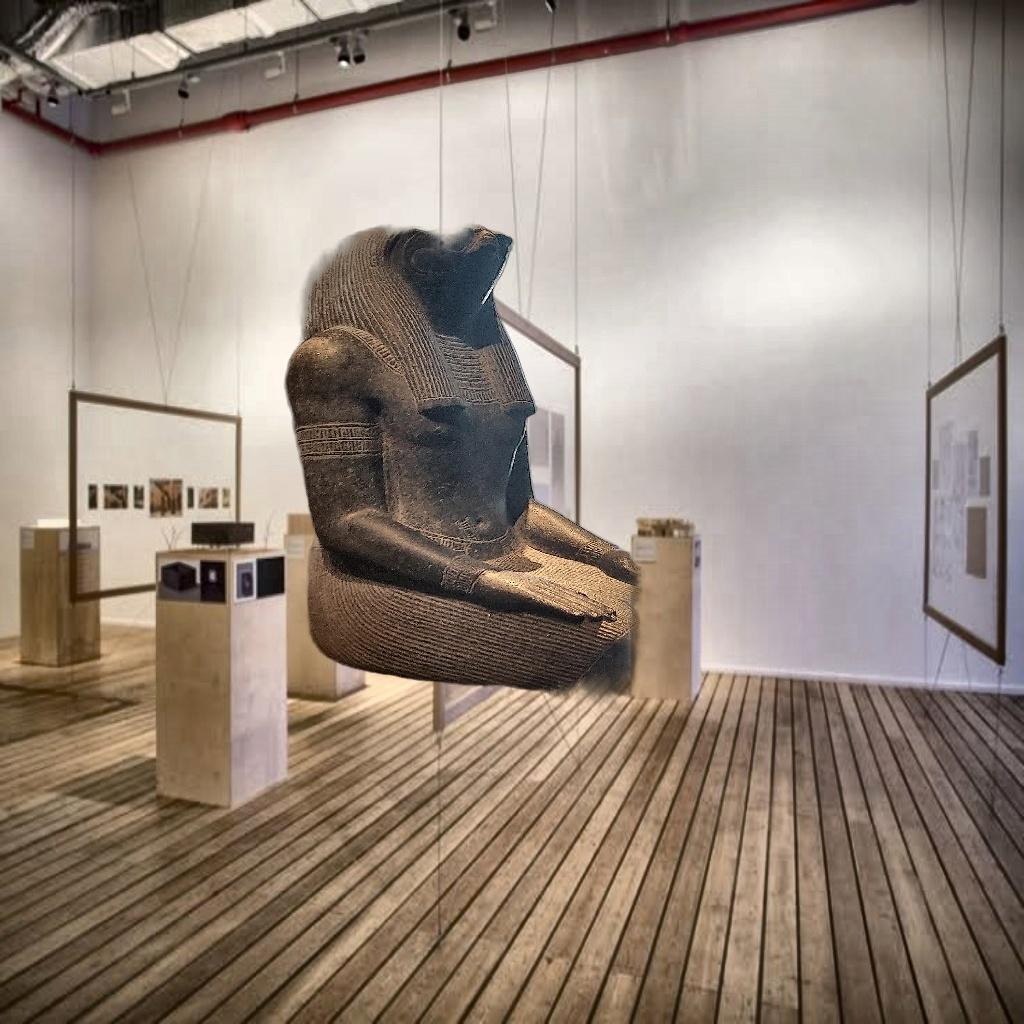Statue of God Ra-Horakhty: (246, 90, 772, 1020)
